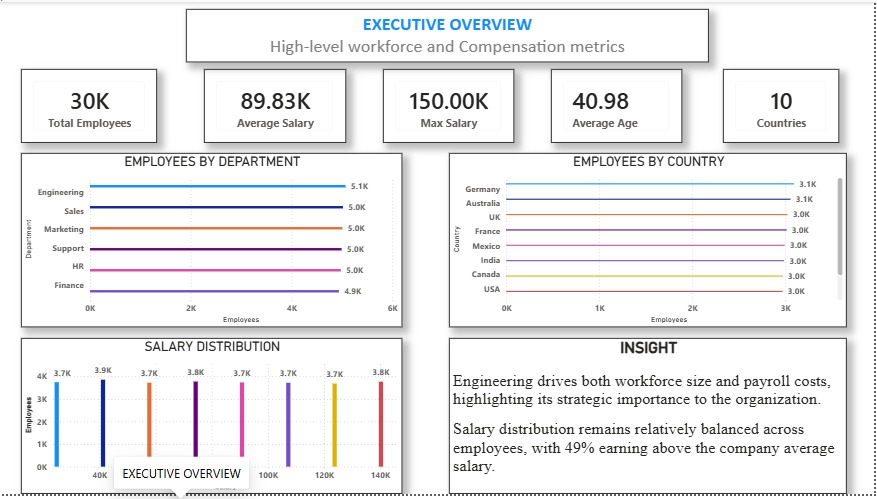

The dashboard page shown, as its layout file describes it:
{"tool":"powerbi","page":{"name":"EXECUTIVE OVERVIEW","canvas":[1280,720],"ordinal":0},"visuals":[{"type":"cardVisual","title":"TOTAL EMPLOYEES","fields":{"Data":["hr_analytics employee_records.Total Employees"]},"box":[30.7,98,199,108.3],"z":0},{"type":"cardVisual","fields":{"Data":["hr_analytics employee_records.Avg Salary"]},"box":[298.5,98,207.8,108.3],"z":1000},{"type":"cardVisual","fields":{"Data":["hr_analytics employee_records.Max Salary"]},"box":[560.5,98,191.7,108.3],"z":2000},{"type":"cardVisual","fields":{"Data":["hr_analytics employee_records.Avg Age"]},"box":[806.3,98,191.7,108.3],"z":3000},{"type":"cardVisual","fields":{"Data":["Count(hr_analytics employee_records.Country)"]},"box":[1058,98,169.8,108.3],"z":4000},{"type":"clusteredBarChart","title":"EMPLOYEES BY DEPARTMENT","fields":{"Category":["hr_analytics employee_records.Department"],"Y":["CountNonNull(hr_analytics employee_records.Employee_ID)"],"Series":["hr_analytics employee_records.Department"]},"box":[30.7,221,557.6,254.6],"z":5000},{"type":"clusteredBarChart","title":"EMPLOYEES BY COUNTRY","fields":{"Category":["hr_analytics employee_records.Country"],"Y":["CountNonNull(hr_analytics employee_records.Employee_ID)"],"Series":["hr_analytics employee_records.Country"]},"box":[657.1,221,582.4,254.6],"z":6000},{"type":"clusteredColumnChart","title":"SALARY DISTRIBUTION","fields":{"Category":["hr_analytics employee_records.Salary (bins)"],"Y":["CountNonNull(hr_analytics employee_records.Employee_ID)"],"Series":["hr_analytics employee_records.Salary (bins)"]},"box":[30.7,491.7,557.6,228.3],"z":7000},{"type":"textbox","title":"INSIGHT ","box":[657.1,491.7,582.4,228.3],"z":8000},{"type":"textbox","box":[272.2,10.2,765.4,77.6],"z":8001}]}

Visuals, with their boxes in screenshot pixels (x1, y1, x2, y2), scaled from the page's 1280x720 canvas onto the 877x499 screenshot:
"TOTAL EMPLOYEES" cardVisual: 21,68,157,143
cardVisual - hr_analytics employee_records.Avg Salary: 205,68,347,143
cardVisual - hr_analytics employee_records.Max Salary: 384,68,515,143
cardVisual - hr_analytics employee_records.Avg Age: 552,68,684,143
cardVisual - Count(hr_analytics employee_records.Country): 725,68,841,143
"EMPLOYEES BY DEPARTMENT" clusteredBarChart: 21,153,403,330
"EMPLOYEES BY COUNTRY" clusteredBarChart: 450,153,849,330
"SALARY DISTRIBUTION" clusteredColumnChart: 21,341,403,498
"INSIGHT " textbox: 450,341,849,498
textbox: 186,7,711,61
